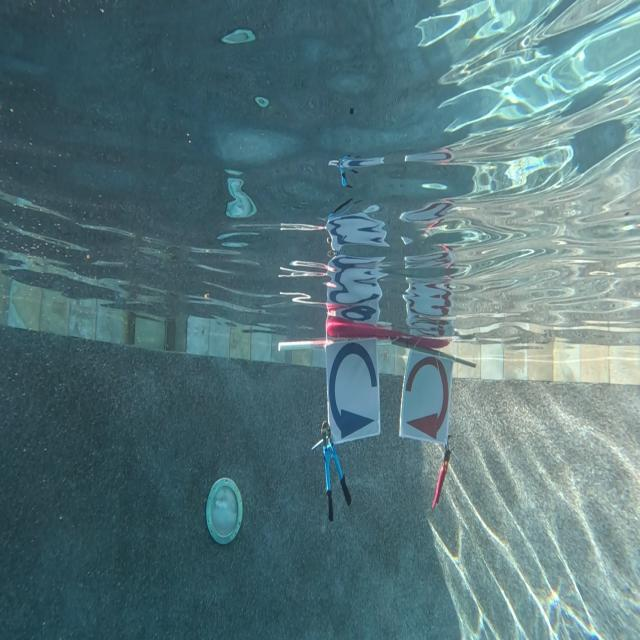blue_side: (327, 343, 378, 438)
red_side: (402, 353, 447, 440)
